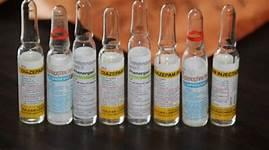Syringe: (16, 1, 46, 131), (153, 0, 182, 130), (212, 2, 240, 126), (97, 4, 125, 126), (182, 5, 209, 129), (126, 0, 152, 126), (46, 3, 72, 128), (73, 0, 98, 128)
